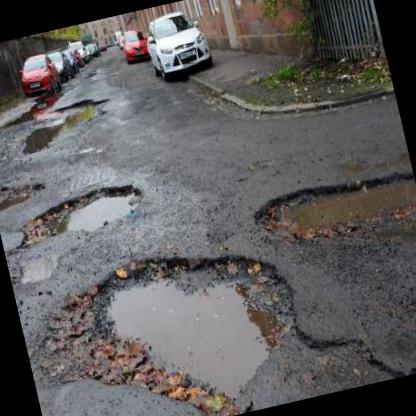pothole: (28, 220, 323, 416), (248, 160, 416, 258), (6, 175, 152, 255), (51, 92, 113, 132), (15, 118, 65, 160), (0, 175, 48, 215)
